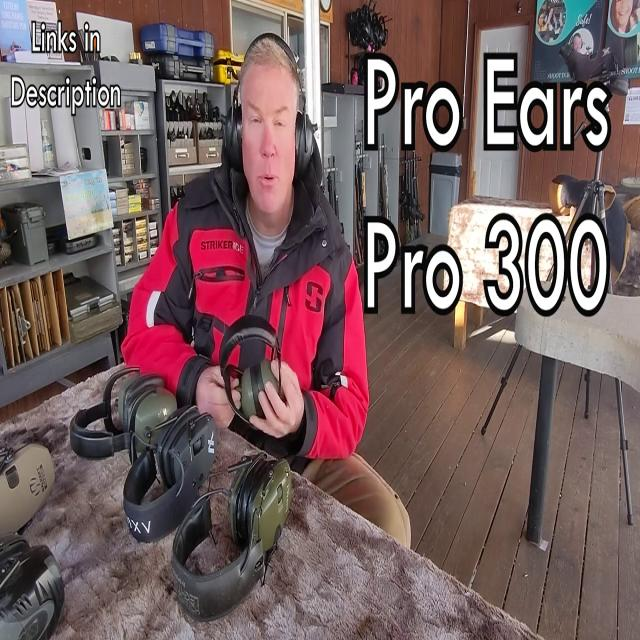earmuff: (223, 93, 247, 175), (293, 108, 317, 190)
